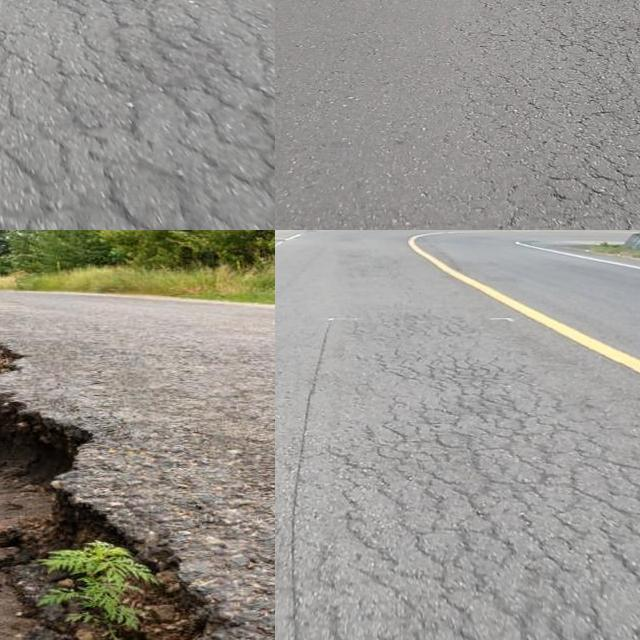Pinggir: (0, 336, 252, 640)
Retak Buaya: (332, 329, 640, 640), (0, 0, 275, 230), (486, 0, 640, 230)
